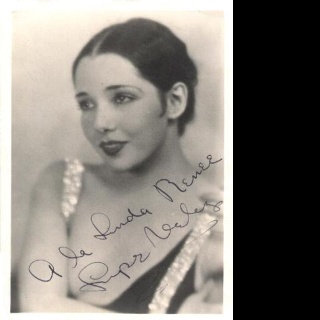without_mask: (74, 53, 170, 172)
